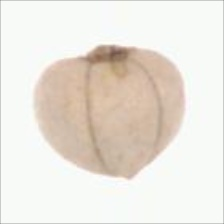L5: (82, 57, 163, 181), (72, 42, 144, 68)
L6: (33, 43, 188, 181)
